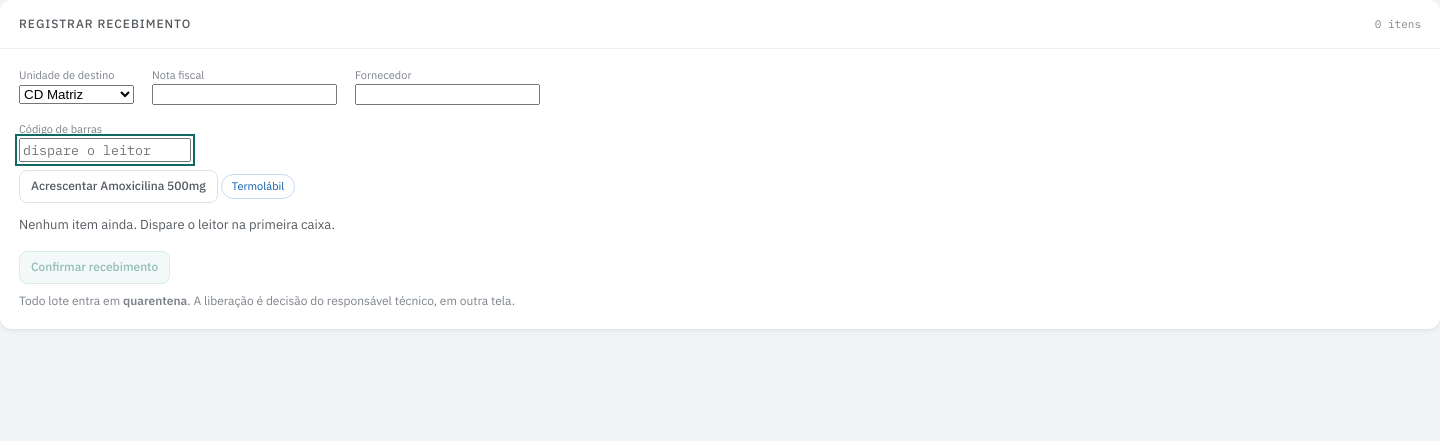
Test: o que a classe do produto exige › termolábil pede a temperatura de chegada — RN-F01
Type "7891234000018" into the field named "Código de barras do produto" at (105, 150), box [19,138,191,162]
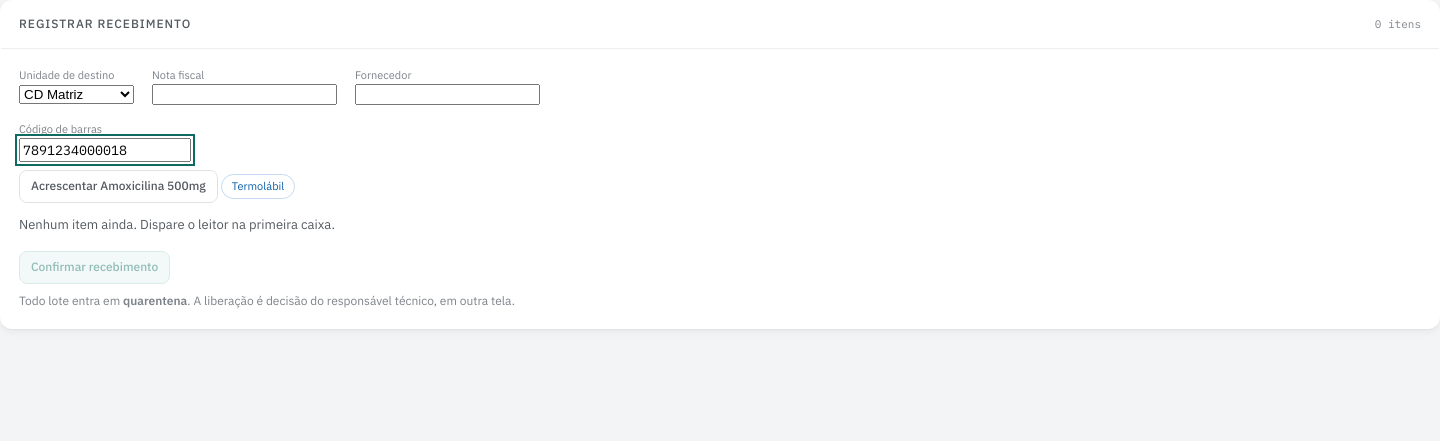
Press Enter in the field named "Código de barras do produto", box [19,138,191,162]
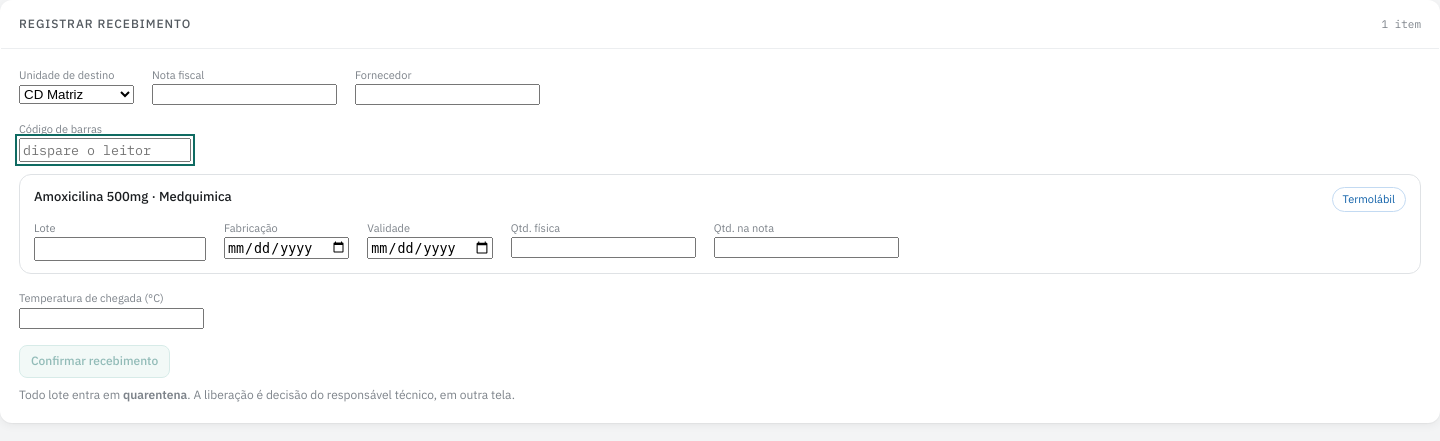
Expected: the number field labelled "Temperatura de chegada (°C)" is shown, [19,308,204,328]
